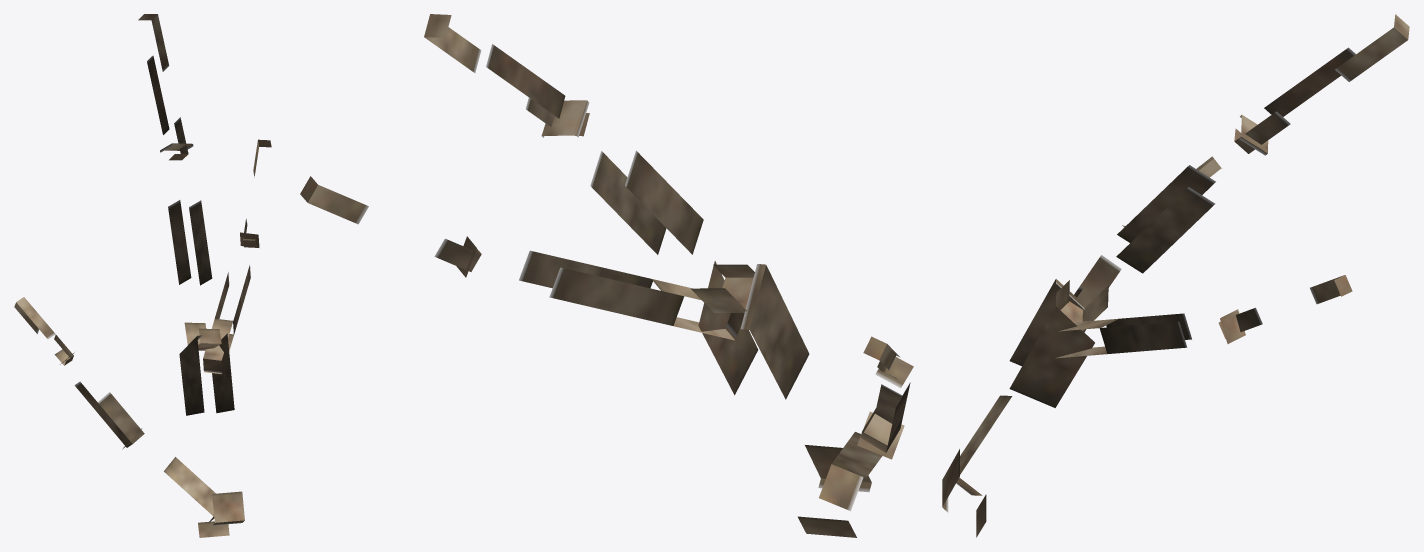
Rendered from whitebeam_twig_branch_up.obj.
3 views of the same model, side by side, from view 1: azimuth 30°, elevation 25°; view 2: azimuth 150°, elevation 25°; view 3: azimuth 270°, elevation 25° (orthographic). The views are drawn at different scales.
Visible parts, largest first — view 1: cube; view 2: cube; view 3: cube.
Part boxes in pixels (x1,y1,x2,y2): cube: (14,14,271,537); cube: (300,14,913,537); cube: (942,14,1409,537).
Size of the model in its own units: 1.59 by 2.01 by 1.5.
